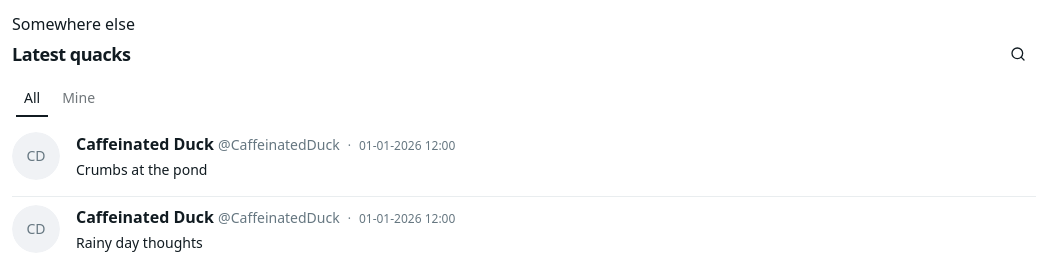
Test: QuackFeed search › Clear wipes the query but leaves search open
Expected: the text "Crumbs at the pond" is shown, x1=76 y1=160 x2=208 y2=179
Click the button named "Toggle search" at coordinates (1018, 54), box x1=1000 y1=36 x2=1036 y2=72
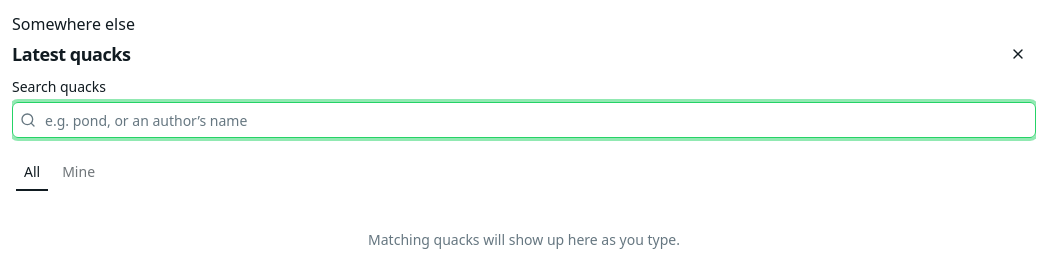
Type "pond" into the field labelled "Search quacks" at coordinates (524, 120), box x1=12 y1=102 x2=1036 y2=138
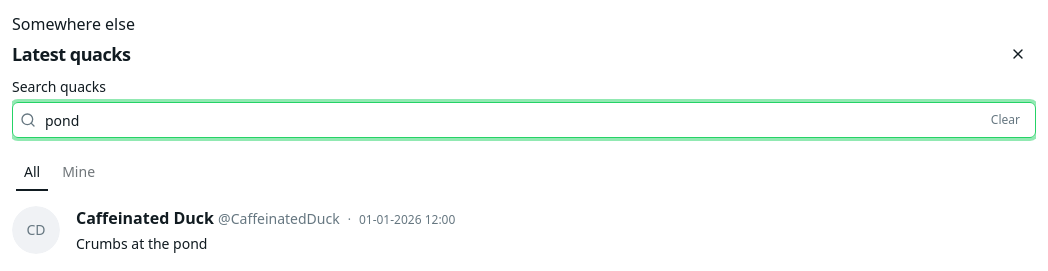
Result: the text "Crumbs at the pond" is shown at x1=76 y1=234 x2=208 y2=253
Click the button "Clear" at coordinates (1005, 120), box x1=983 y1=108 x2=1028 y2=132
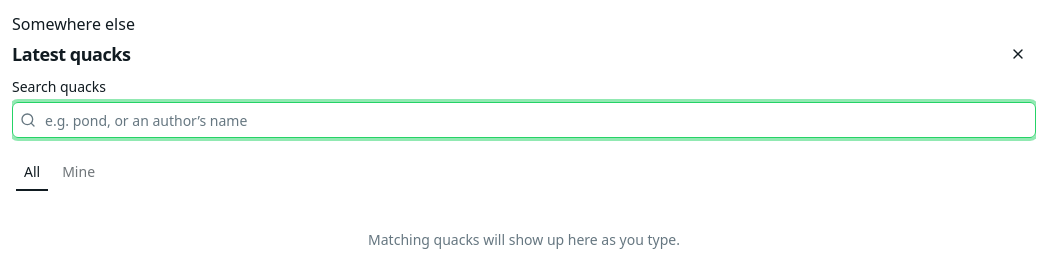
Result: the field labelled "Search quacks" is empty at x1=12 y1=102 x2=1036 y2=138
Result: the text "Crumbs at the pond" is gone
